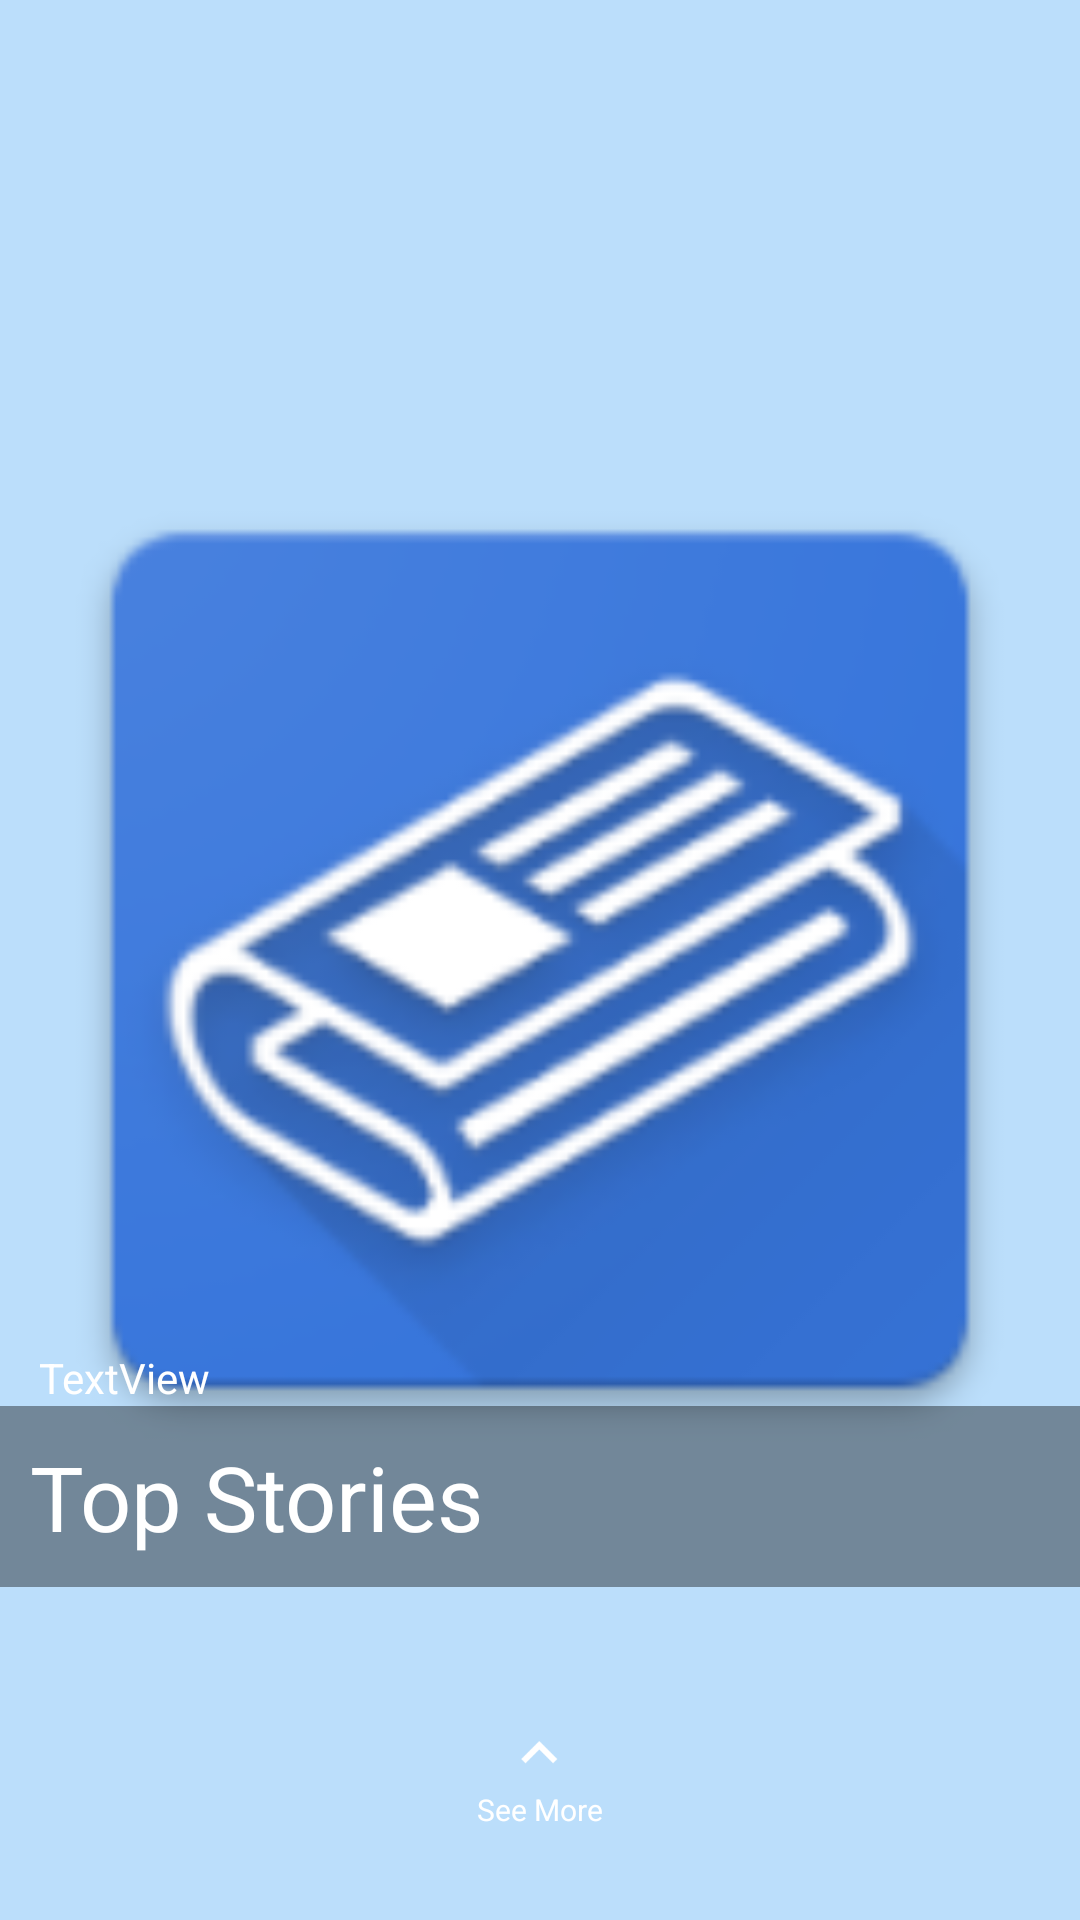

Named icons in this screenshot (1080px x 1920px) and their centers, (x,y):
arrow: (539,1752)
